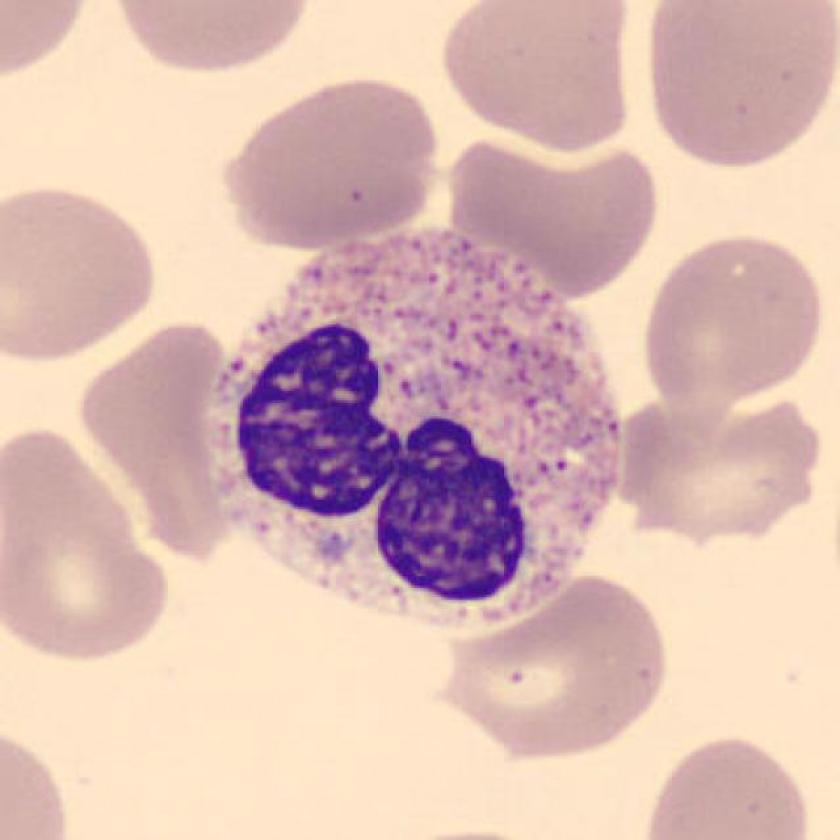neutrophil: (215, 224, 618, 627)
